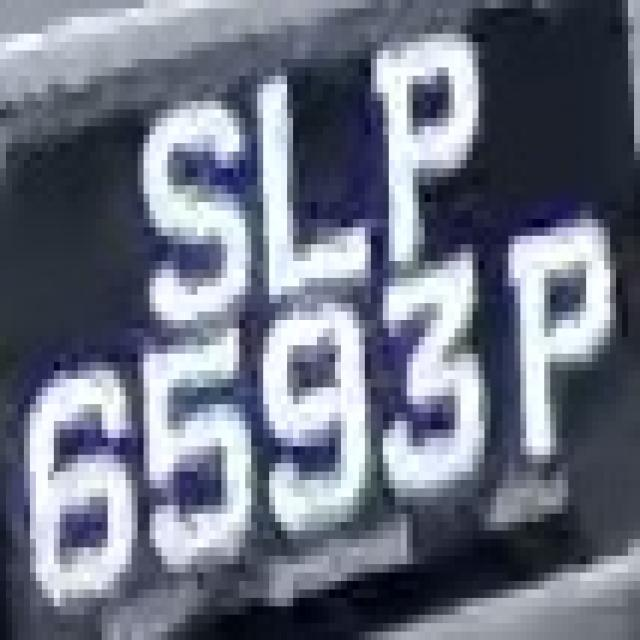3: (359, 244, 490, 497)
5: (138, 312, 263, 581)
6: (24, 354, 132, 606)
9: (245, 303, 377, 556)
L: (251, 68, 371, 304)
P: (502, 211, 634, 480), (377, 8, 496, 261)
S: (126, 76, 269, 337)
